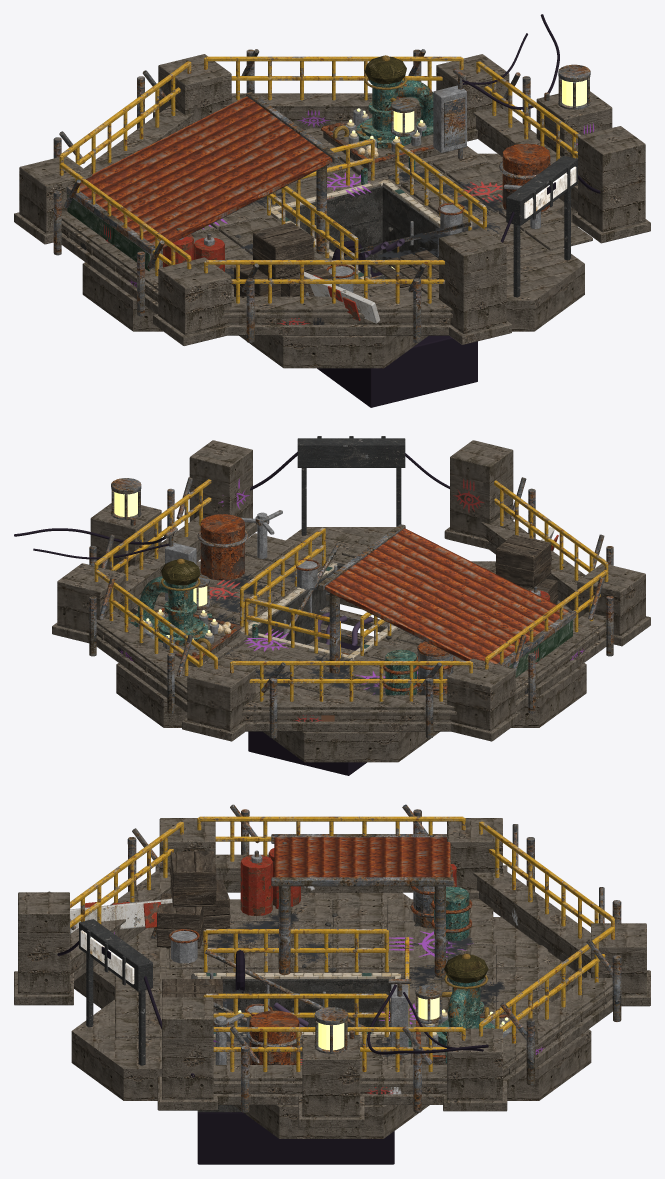
File: sanctum_compound.glb
3 views of the same model, one above another, from view 1: azimuth 30°, elevation 25°; view 2: azimuth 150°, elevation 25°; view 3: azimuth 270°, elevation 25° (orthographic). The views are drawn at different scales.
Visible parts, largest first — view 1: Cult Sanctum Compound; view 2: Cult Sanctum Compound; view 3: Cult Sanctum Compound.
Part boxes in pixels (x1,y1,x2,y2): Cult Sanctum Compound: (14,14,650,407); Cult Sanctum Compound: (14,436,650,775); Cult Sanctum Compound: (14,804,650,1164).
Size of the model in its own units: 6.02 by 2.51 by 6.14.
33 materials, 28 textured.
